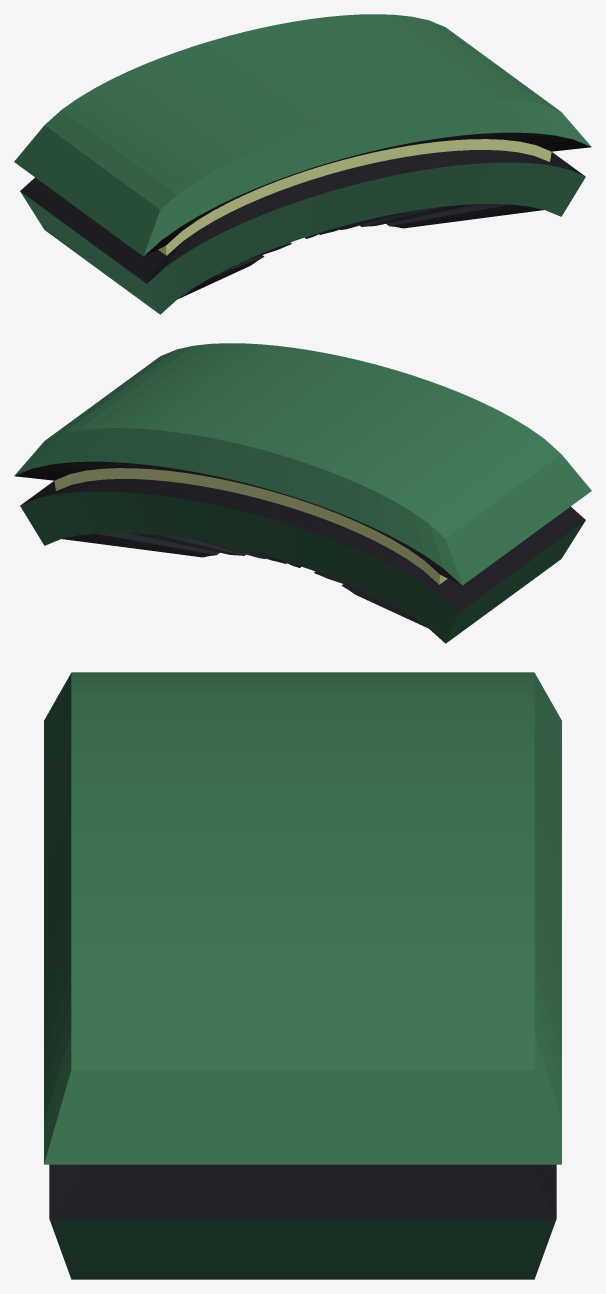
3 views of the same model, one above another, from view 1: azimuth 30°, elevation 25°; view 2: azimuth 150°, elevation 25°; view 3: azimuth 270°, elevation 25° (orthographic). The views are drawn at different scales.
Visible parts, largest first — view 1: Paddle; view 2: Paddle; view 3: Paddle.
Boxes of the visible parts, box(x1,y1,x2,y2) form: Paddle: box(14, 14, 591, 314); Paddle: box(14, 343, 591, 643); Paddle: box(44, 672, 561, 1279).
Size of the model in its own units: 4.47 by 1.48 by 2.24.
